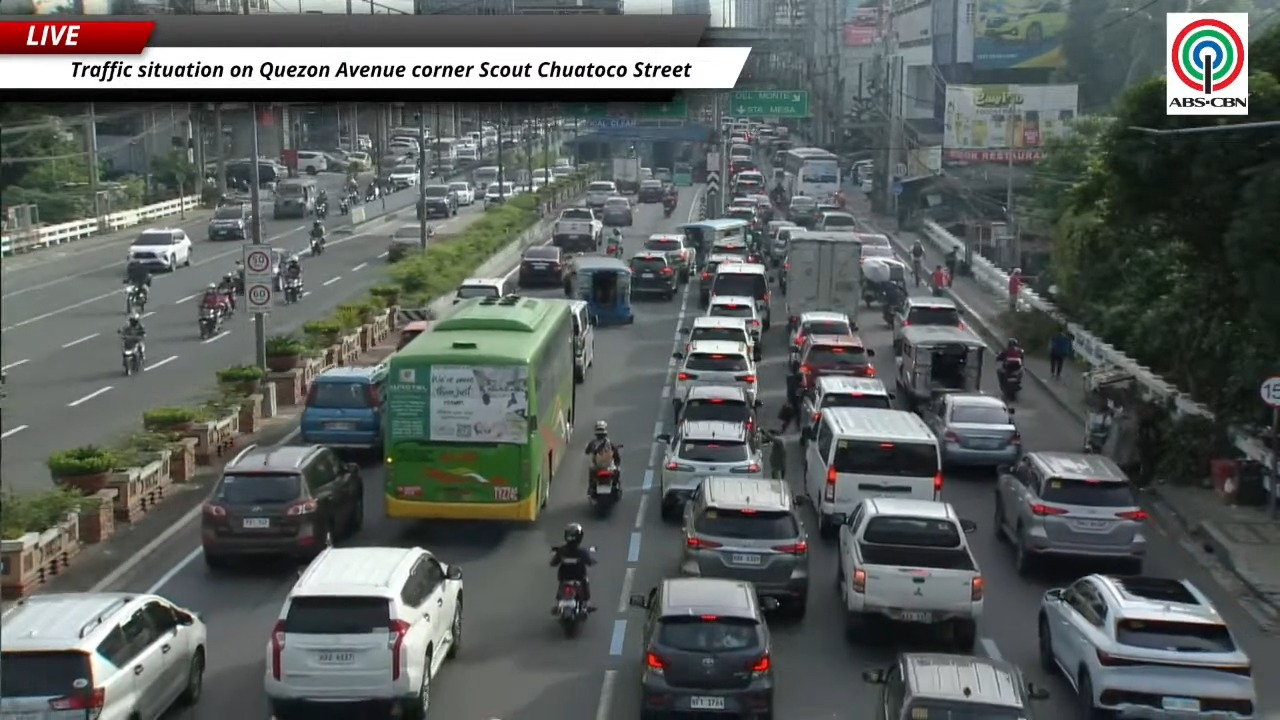bus: (382, 296, 576, 522), (783, 147, 840, 200), (428, 138, 458, 171)
car: (263, 547, 463, 719), (1038, 574, 1266, 719), (0, 592, 207, 719), (629, 578, 777, 717), (201, 445, 363, 569), (994, 452, 1147, 573), (680, 476, 809, 618), (862, 653, 1049, 719), (657, 421, 763, 519), (299, 364, 385, 454), (921, 394, 1021, 467), (800, 376, 894, 444), (788, 335, 875, 391), (893, 296, 965, 351), (675, 384, 761, 430), (680, 315, 761, 361), (705, 296, 761, 354), (126, 228, 192, 271), (699, 246, 745, 307), (789, 311, 855, 352), (643, 233, 695, 282), (629, 250, 677, 300), (517, 245, 564, 287), (207, 204, 250, 240), (453, 277, 509, 304), (417, 184, 457, 219), (387, 223, 421, 262), (711, 237, 760, 262), (397, 320, 429, 350), (601, 196, 632, 226), (786, 196, 816, 227), (585, 180, 617, 209), (815, 211, 858, 232), (725, 204, 760, 229), (483, 181, 516, 207), (747, 193, 773, 225), (296, 150, 328, 175), (387, 164, 419, 189), (272, 248, 289, 291), (860, 244, 896, 262), (637, 179, 664, 203), (448, 182, 474, 206), (346, 151, 372, 171), (816, 201, 840, 216), (654, 168, 672, 182)
motorcycle: (553, 580, 594, 637), (588, 462, 620, 514), (1083, 411, 1111, 453), (997, 359, 1023, 401), (198, 307, 223, 340), (121, 339, 142, 375), (126, 285, 147, 313), (283, 278, 302, 303), (606, 229, 621, 256), (882, 300, 895, 326), (662, 196, 677, 217), (365, 184, 381, 202), (310, 235, 323, 255), (606, 240, 621, 256), (315, 202, 326, 219), (339, 198, 349, 215), (664, 204, 675, 217)
truck: (838, 497, 983, 652), (780, 230, 862, 326), (552, 206, 602, 251), (612, 157, 640, 193)
